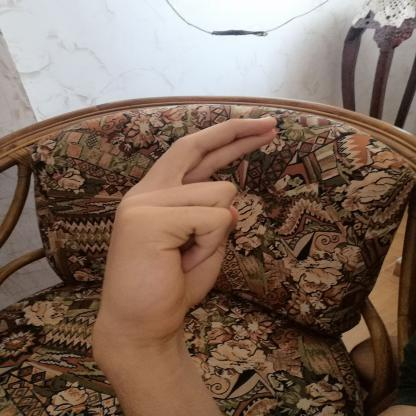ZAY: (81, 106, 292, 352)
